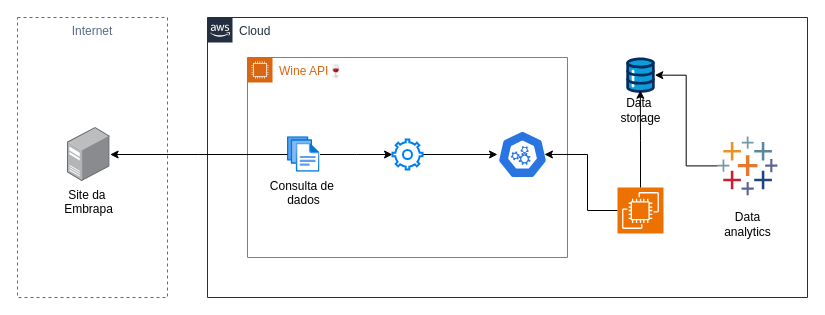
Image size: 825x315. Some labels were removed from this diagram. The box of each missing label's shape, as (x1, y1, x2, y2) in pixels:
API Consumer: (616, 186, 664, 234)
Endpoint: (496, 130, 548, 178)
Processamento e formatação: (391, 138, 423, 170)
